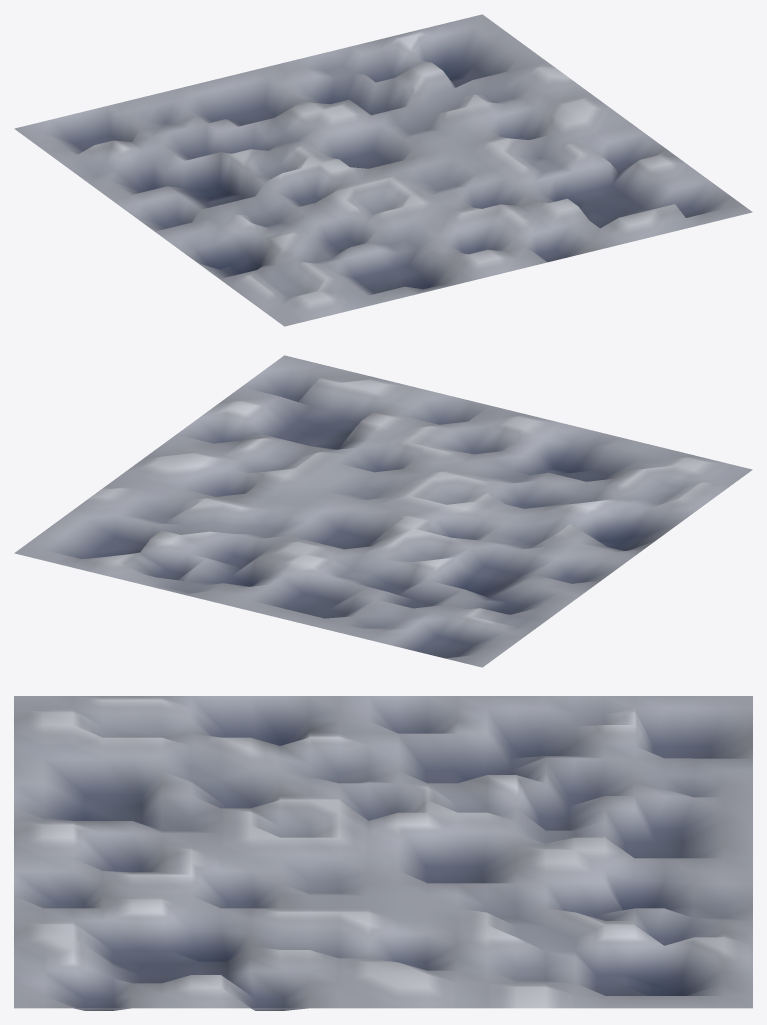
The model's file is Terrain_bumpy.fbx.
3 renders of one model, top to bottom at view 1: azimuth 30°, elevation 25°; view 2: azimuth 150°, elevation 25°; view 3: azimuth 270°, elevation 25°, orthographic. The views are drawn at different scales.
Visible parts, largest first — view 1: Terrain_bumpy; view 2: Terrain_bumpy; view 3: Terrain_bumpy.
Boxes of the visible parts, bbox=[...] form: Terrain_bumpy: bbox=[14, 14, 752, 326]; Terrain_bumpy: bbox=[14, 355, 752, 667]; Terrain_bumpy: bbox=[14, 696, 752, 1010].
Size of the model in its own units: 25 by 1.45 by 25.
